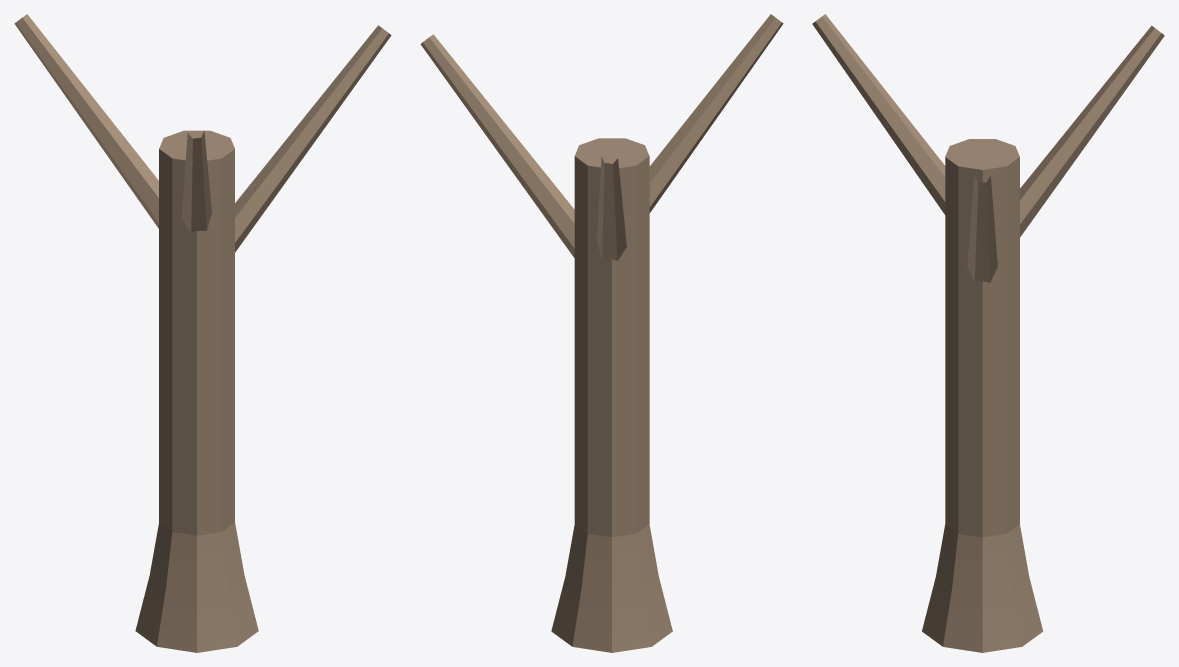
The model's file is tree_trunk.glb.
3 renders of one model, left to right at view 1: azimuth 30°, elevation 25°; view 2: azimuth 150°, elevation 25°; view 3: azimuth 270°, elevation 25°, orthographic.
Parts seen in each view (by area): view 1: tree_trunk; view 2: tree_trunk; view 3: tree_trunk.
Part boxes in pixels (x1=…): tree_trunk: x1=14, y1=14, x2=391, y2=652; tree_trunk: x1=420, y1=14, x2=783, y2=652; tree_trunk: x1=812, y1=14, x2=1164, y2=652.
Bounding box in the file's own units: 1.37 × 2.66 × 1.49.
